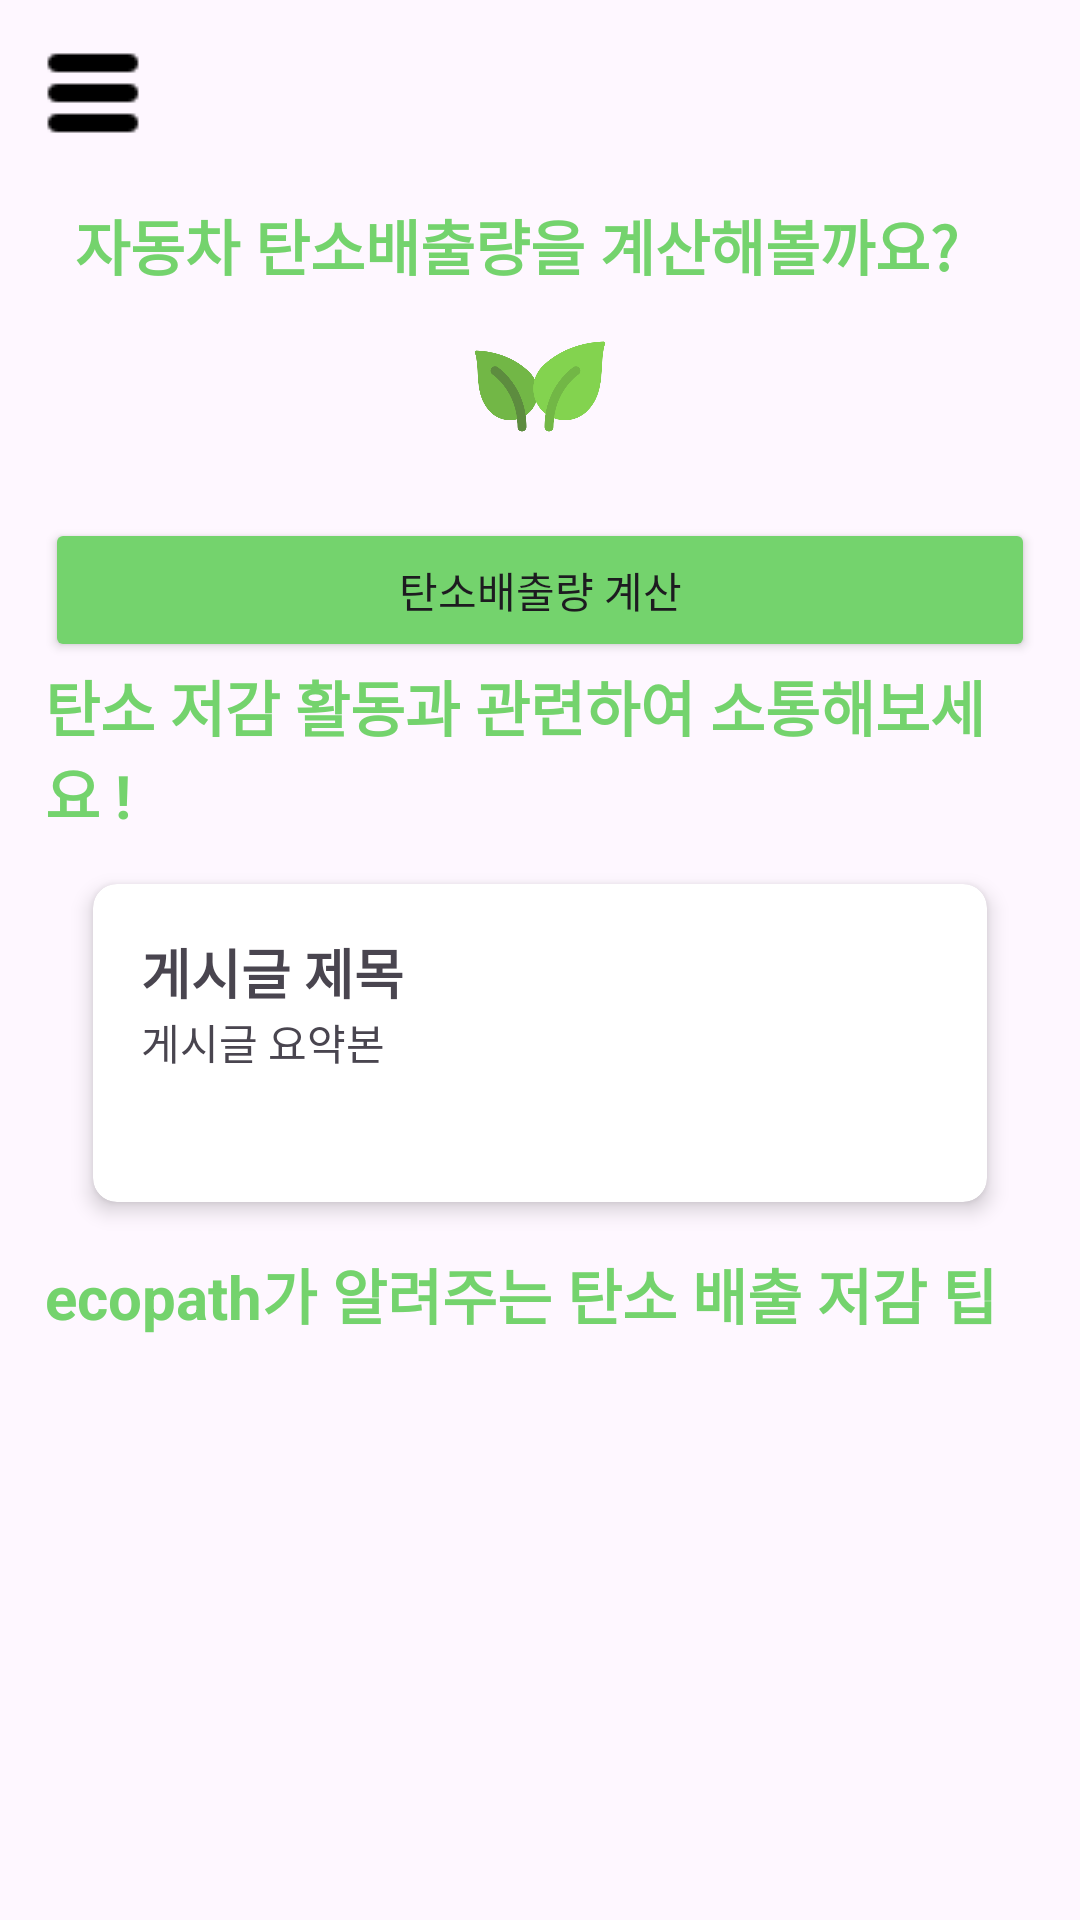

Where icons sit on this 1080*1920 app screen, as (left=x1, top=y1, right=x2, bottom=y2):
menu: (left=47, top=53, right=139, bottom=133)
나뭇잎 아이콘: (left=475, top=341, right=605, bottom=432)
